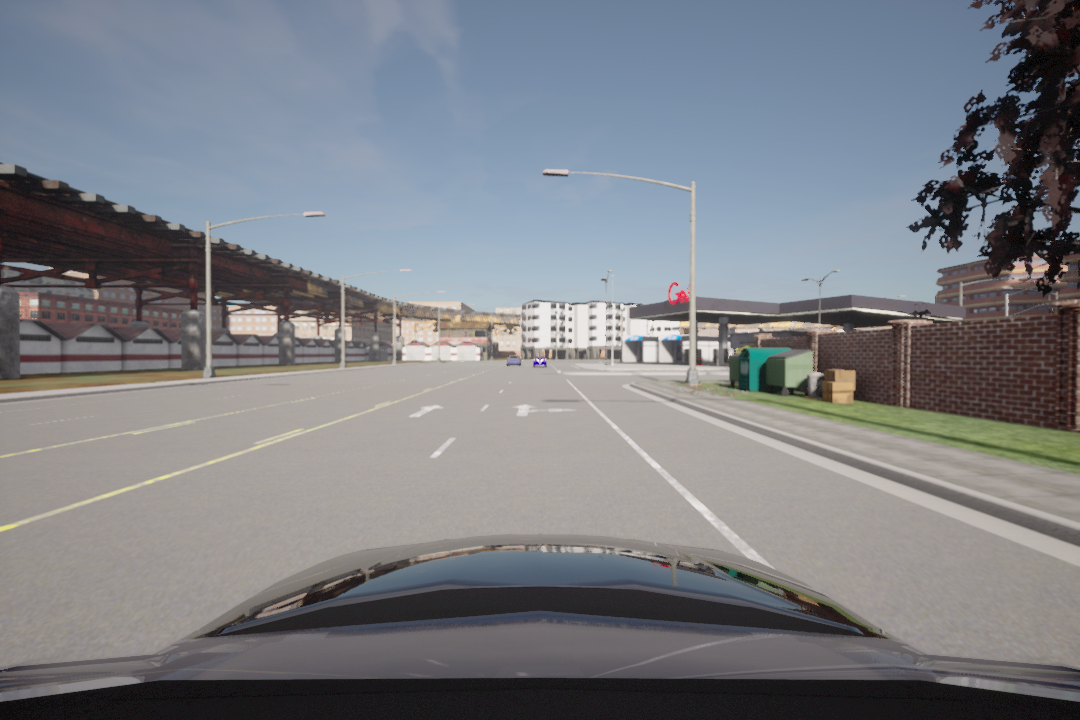RoadSign_forward: (407, 401, 446, 421)
RoadSign_forward_right: (509, 400, 579, 421)
